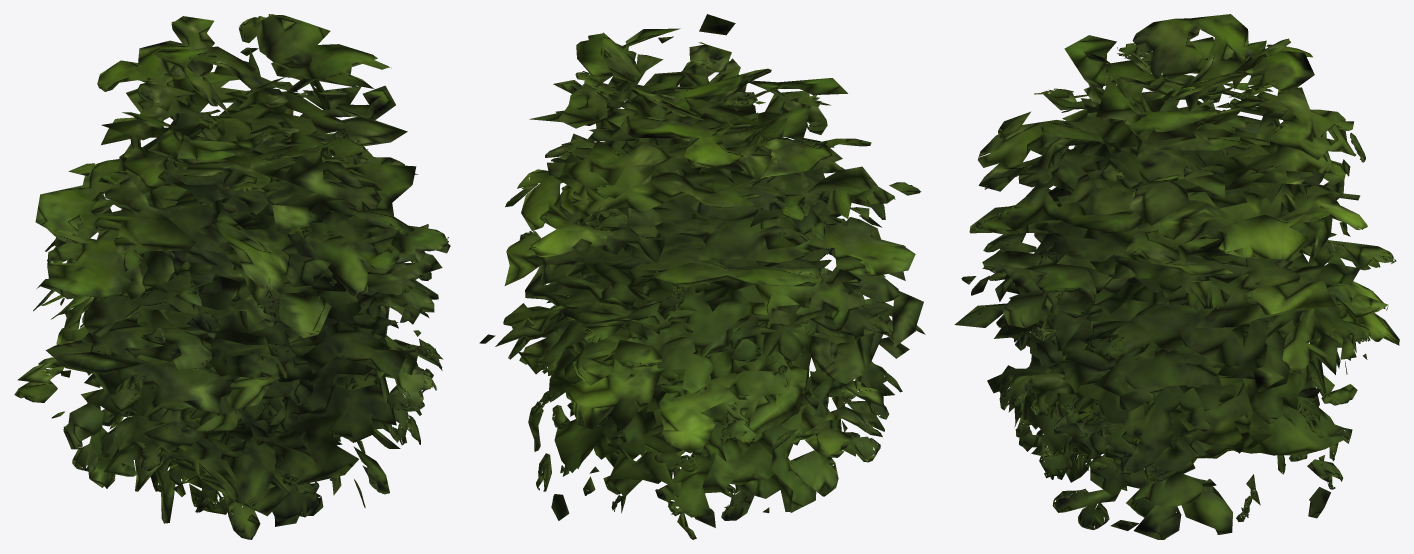
File: AI_FernBush.fbx
The picture shows the model from 3 angles, left to right: view 1: azimuth 30°, elevation 25°; view 2: azimuth 150°, elevation 25°; view 3: azimuth 270°, elevation 25°; orthographic projection.
Parts seen in each view (by area): view 1: Mesh1; view 2: Mesh1; view 3: Mesh1.
Boxes of the visible parts, <box> form: Mesh1: <box>14,14,450,539</box>; Mesh1: <box>479,14,925,539</box>; Mesh1: <box>954,14,1399,539</box>.
Size of the model in its own units: 173 by 197 by 171.
1 material, 1 textured.
